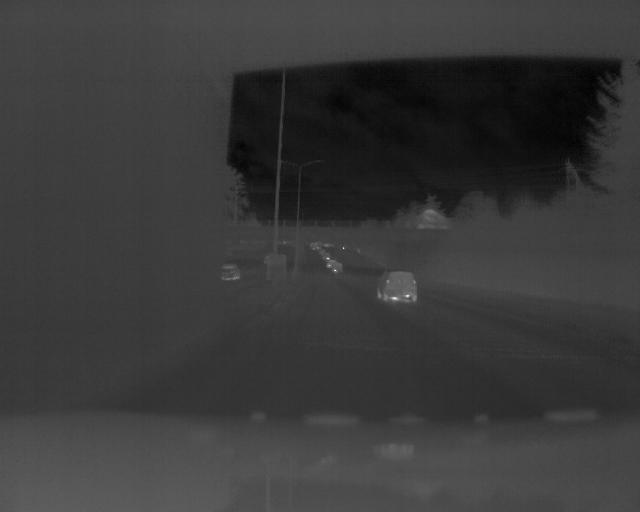car: (373, 267, 424, 307)
